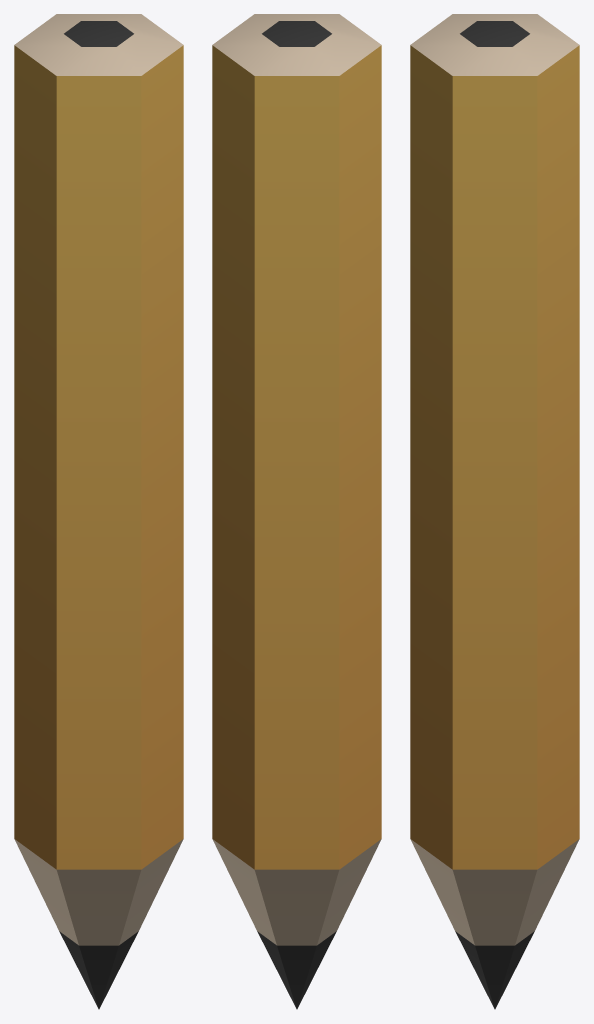
The model's file is pencil_A_long.obj.
3 views of the same model, side by side, from view 1: azimuth 30°, elevation 25°; view 2: azimuth 150°, elevation 25°; view 3: azimuth 270°, elevation 25° (orthographic).
Parts seen in each view (by area): view 1: pencil_A_long; view 2: pencil_A_long; view 3: pencil_A_long.
Boxes of the visible parts, x1,y1,x2,y2 form: pencil_A_long: (14, 14, 183, 1009); pencil_A_long: (212, 14, 381, 1009); pencil_A_long: (410, 14, 579, 1009).
Bounding box in the file's own units: 0.0861 × 0.6312 × 0.0994.
Materials: 1 (1 with a texture image).
